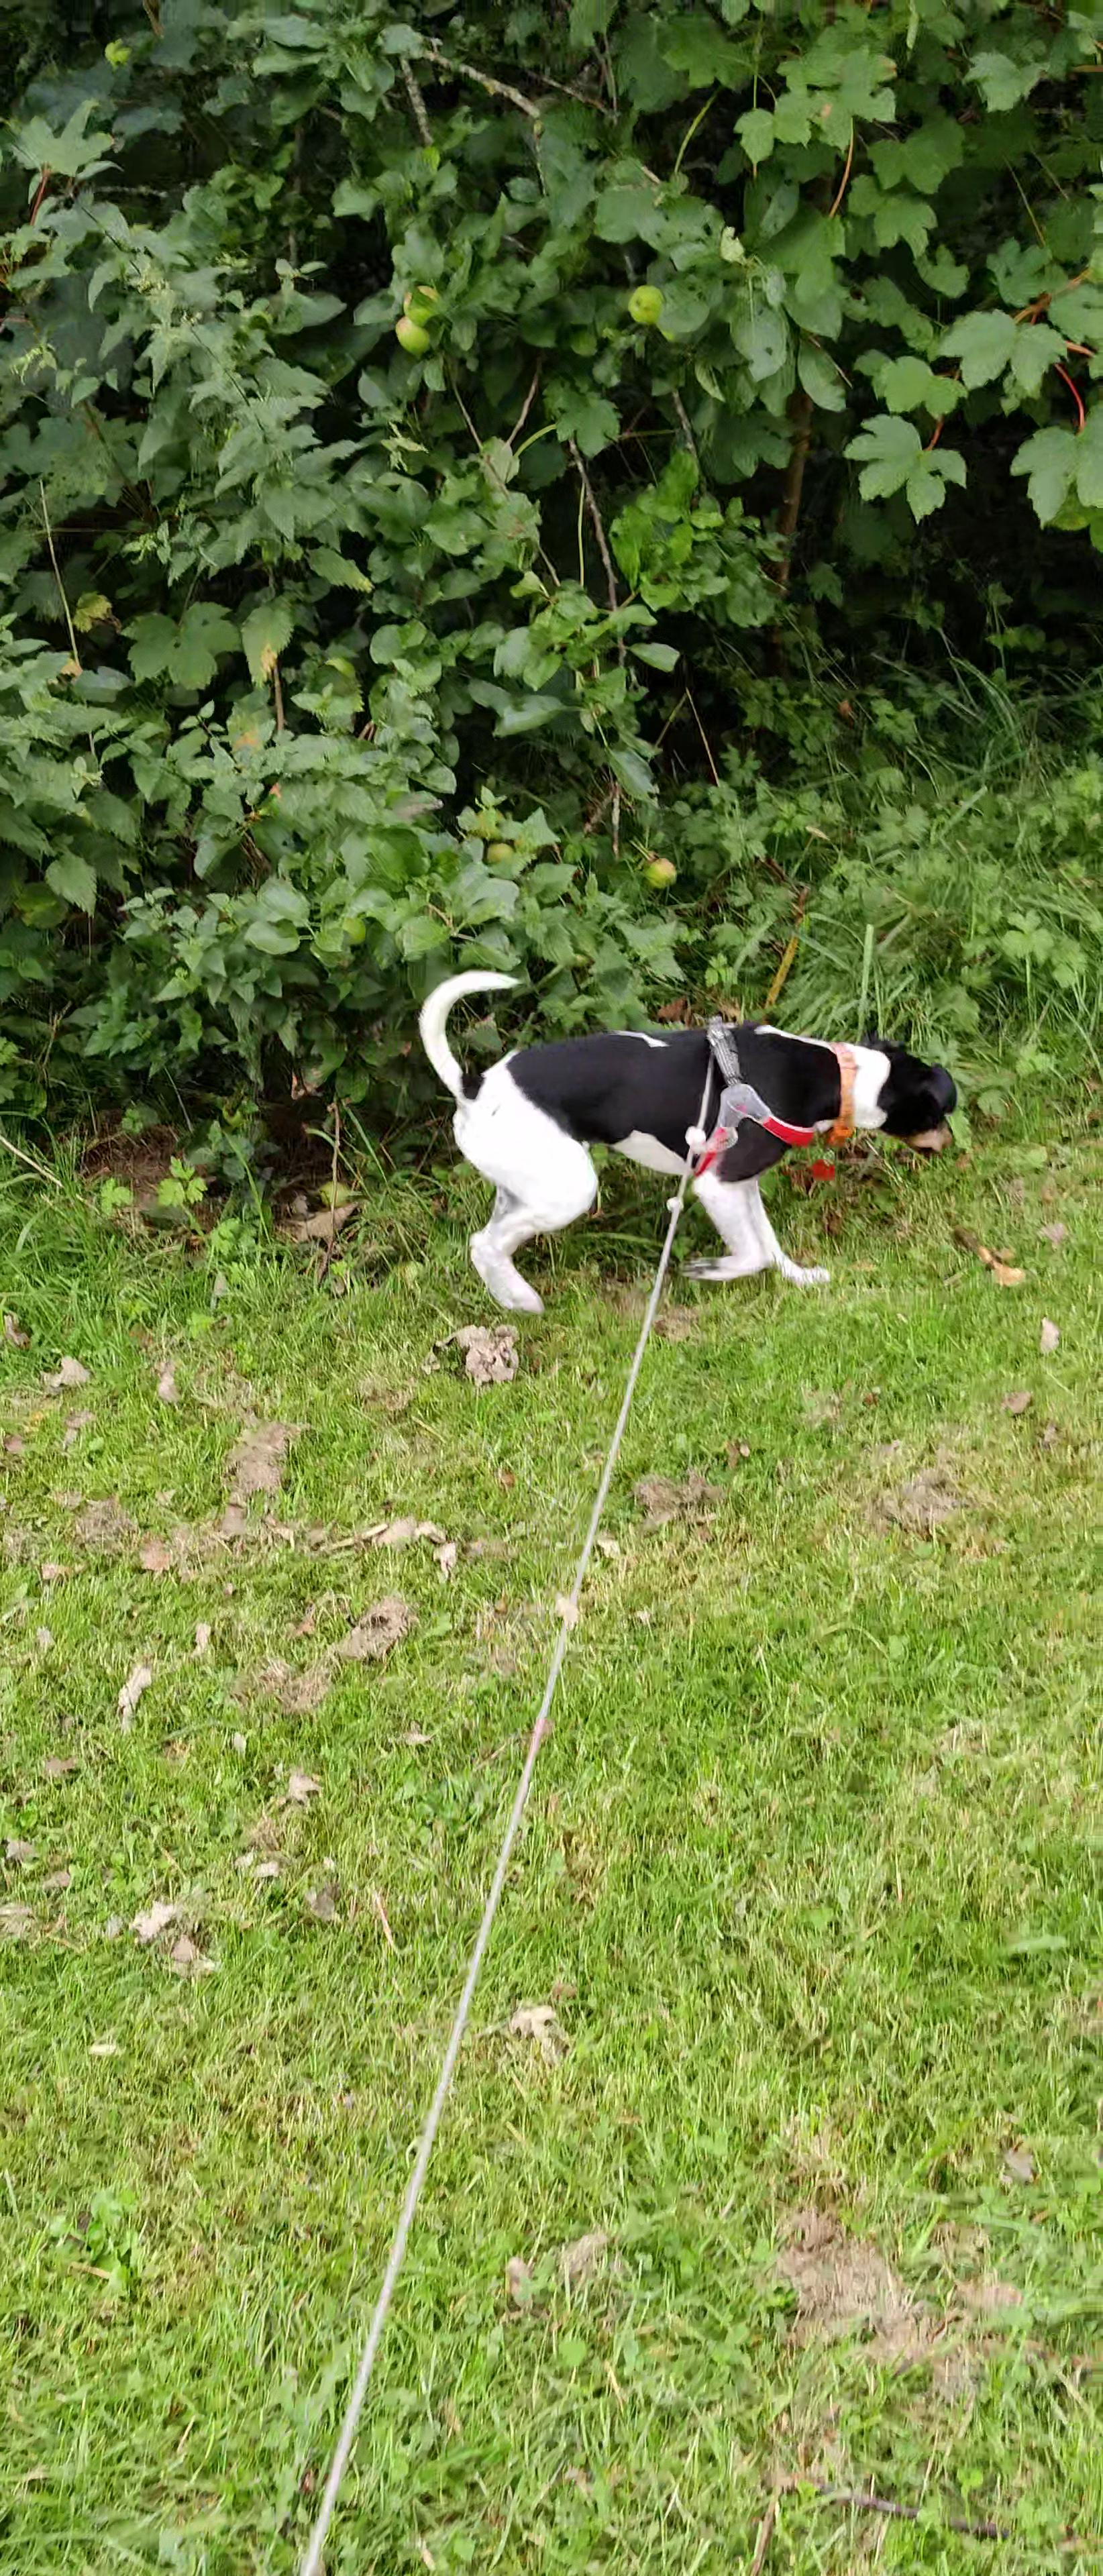Dog: (413, 950, 963, 1329)
